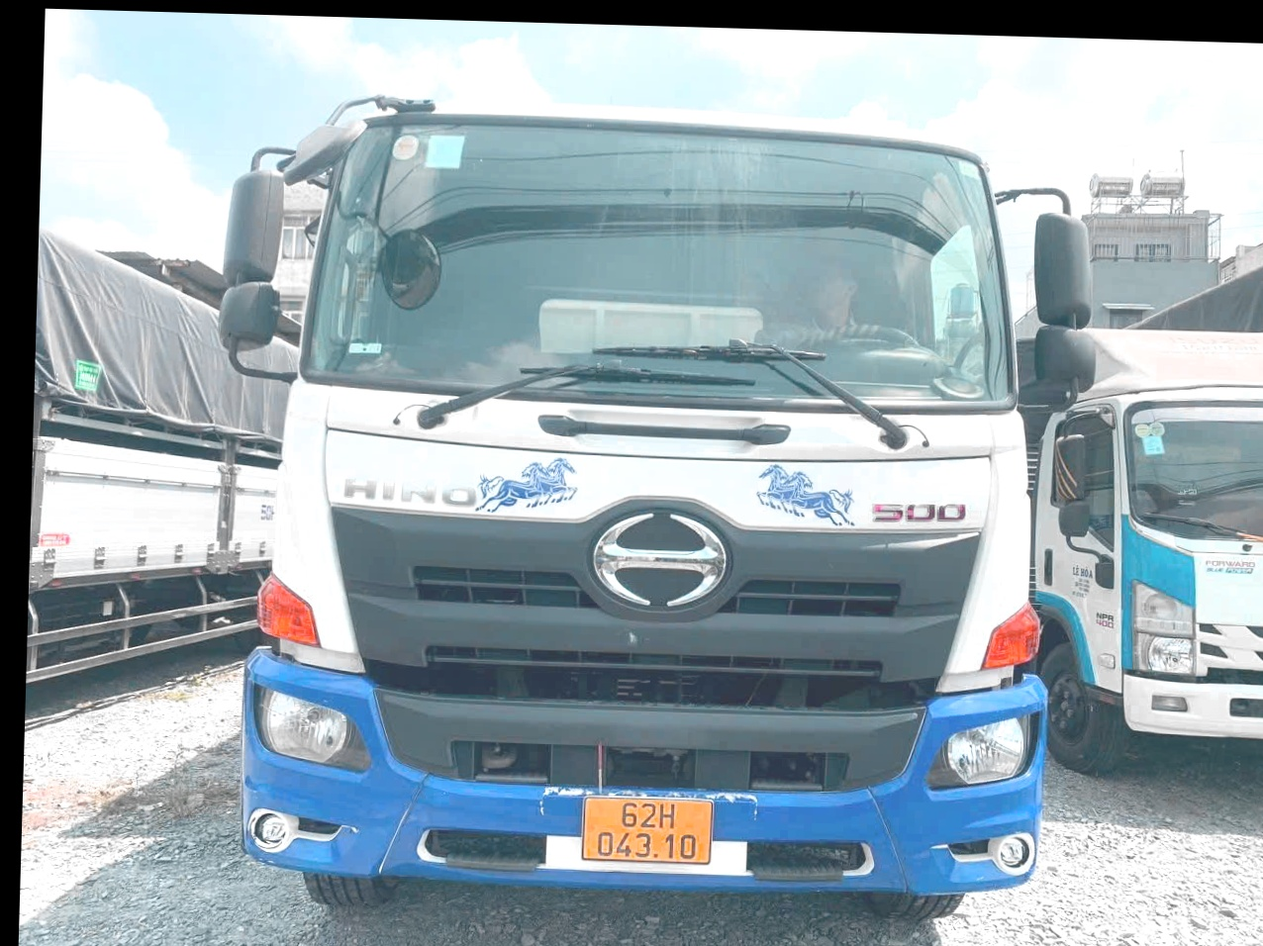Bien-so: (582, 794, 716, 879)
